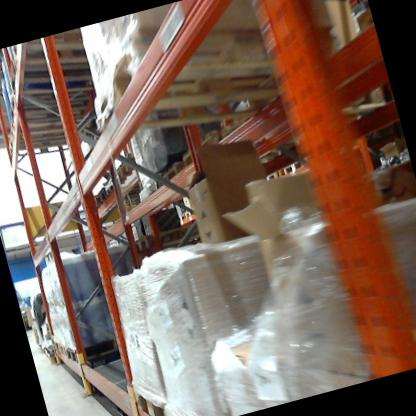pallet: (67, 0, 383, 159), (2, 36, 101, 113), (1, 102, 104, 174), (2, 70, 109, 134), (11, 21, 112, 83), (130, 210, 210, 255), (174, 130, 237, 177), (64, 329, 131, 366), (145, 156, 191, 203), (129, 377, 180, 416), (279, 146, 331, 183), (107, 145, 146, 193), (91, 178, 142, 209), (101, 168, 145, 200), (265, 161, 285, 185), (42, 348, 62, 368), (55, 339, 72, 359)
